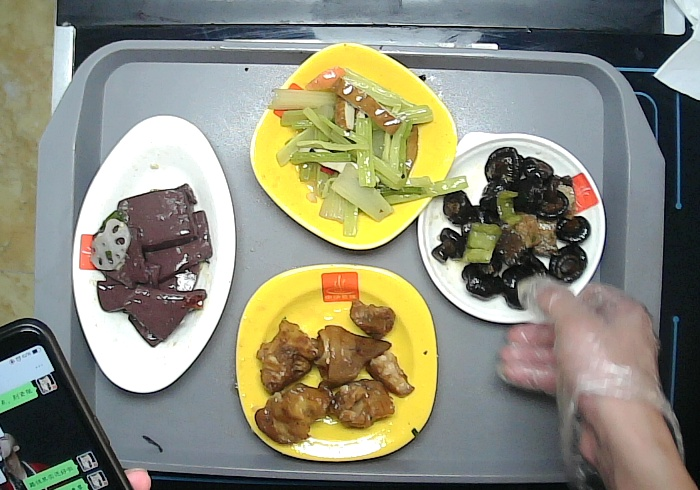SHKJ-Bao_Yu_Pan: (417, 130, 608, 326)
SHKJ-Huang_Se_Cai_Die: (249, 42, 458, 249)
SHKJ-Huang_Se_Si_Fang_Cai_Die: (237, 263, 439, 463)
SHKJ-Yu_Pan: (71, 114, 236, 393)
